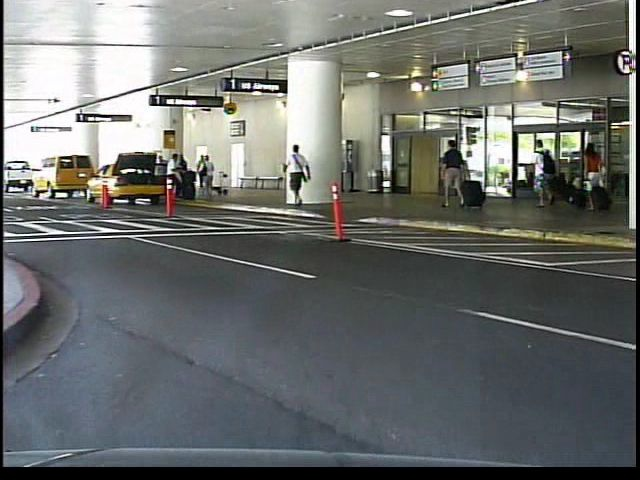person: (528, 138, 565, 217), (580, 133, 612, 220), (440, 135, 472, 211), (284, 140, 316, 211)
